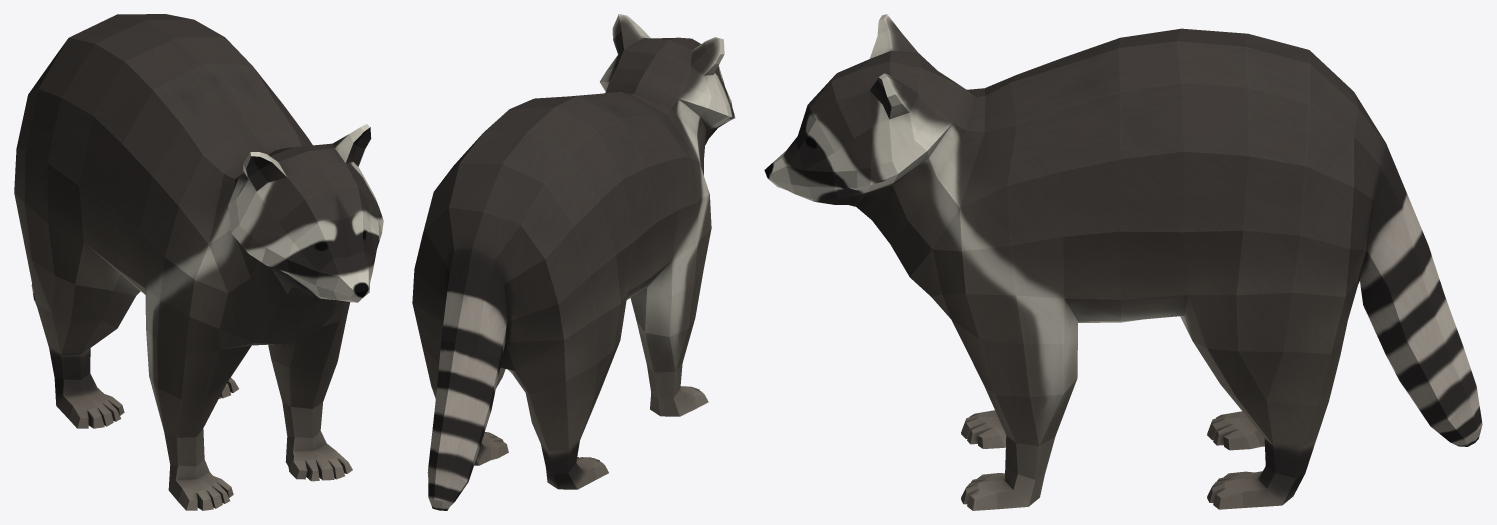
Rendered from guaxinim.glb.
3 views of the same model, side by side, from view 1: azimuth 30°, elevation 25°; view 2: azimuth 150°, elevation 25°; view 3: azimuth 270°, elevation 25° (orthographic). The views are drawn at different scales.
Parts seen in each view (by area): view 1: Raccoon_Mesh; view 2: Raccoon_Mesh; view 3: Raccoon_Mesh.
Boxes of the visible parts, x1,y1,x2,y2 form: Raccoon_Mesh: (14, 14, 383, 510); Raccoon_Mesh: (412, 14, 735, 510); Raccoon_Mesh: (764, 14, 1482, 510).
Size of the model in its own units: 1.83 by 3.29 by 5.03.
1 material, 1 textured.
